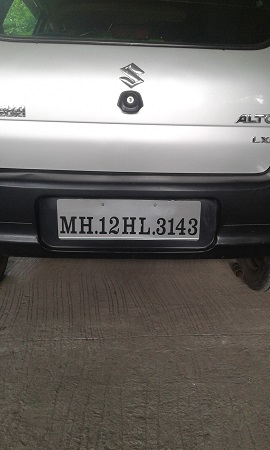licenseplate: (54, 195, 204, 243)
